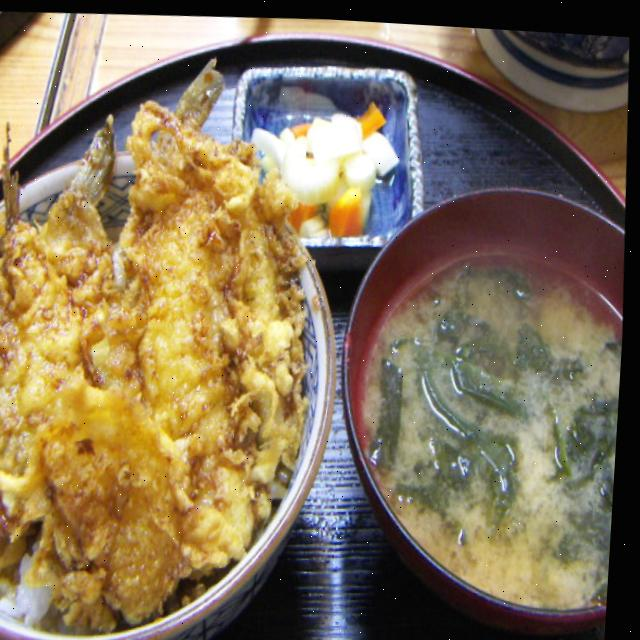蔬菜料理: (0, 43, 397, 640)
